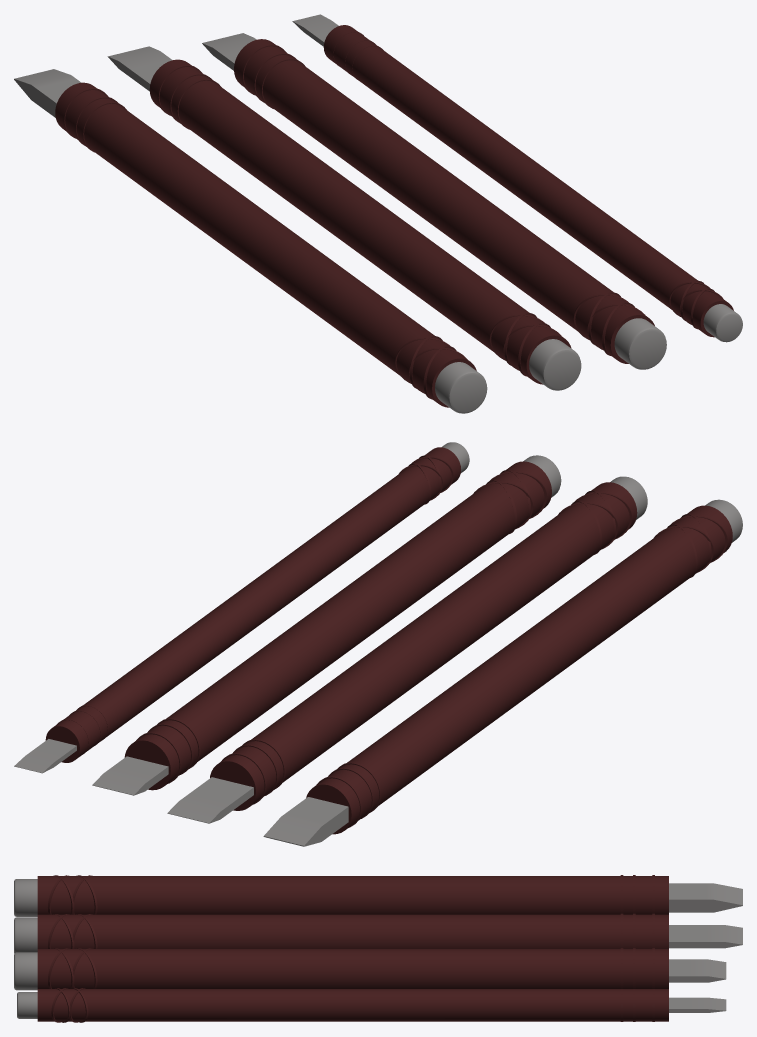
The model's file is stonecarvers.fbx.
3 renders of one model, top to bottom at view 1: azimuth 30°, elevation 25°; view 2: azimuth 150°, elevation 25°; view 3: azimuth 270°, elevation 25°, orthographic. The views are drawn at different scales.
Parts seen in each view (by area): view 1: Cylinder.019, Cylinder.003, Cylinder.002, Cylinder.001; view 2: Cylinder.019, Cylinder.003, Cylinder.002, Cylinder.001; view 3: Cylinder.019, Cylinder.002, Cylinder.003, Cylinder.001.
Part boxes in pixels (x1,y1,x2,y2): Cylinder.019: (14, 69, 487, 413); Cylinder.003: (107, 46, 581, 390); Cylinder.002: (202, 33, 666, 369); Cylinder.001: (292, 14, 742, 342); Cylinder.019: (263, 499, 742, 846); Cylinder.003: (167, 476, 647, 823); Cylinder.002: (92, 455, 561, 795); Cylinder.001: (14, 442, 469, 773); Cylinder.019: (14, 875, 742, 916); Cylinder.002: (14, 948, 726, 990); Cylinder.003: (14, 913, 742, 953); Cylinder.001: (17, 988, 726, 1022).
Size of the model in its own units: 0.5771 by 0.0899 by 1.42.
